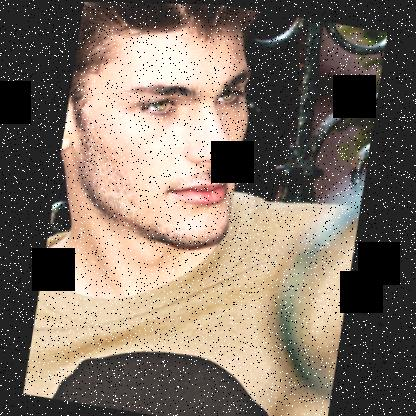Male: (48, 2, 261, 255)
